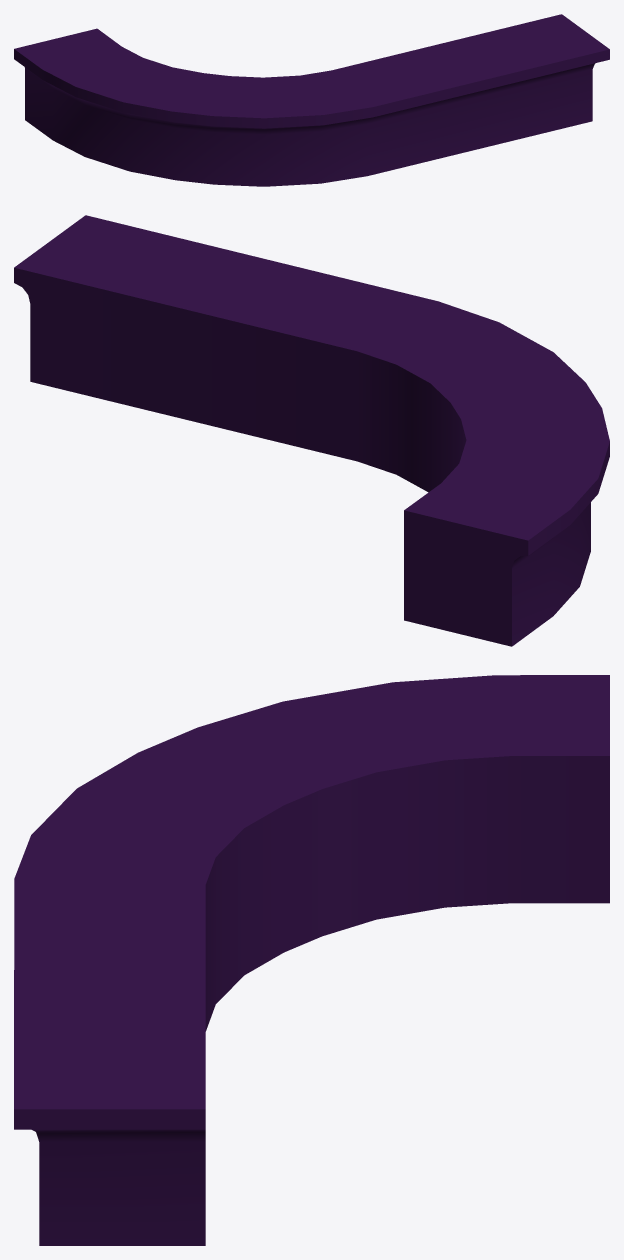
The model's file is Bar Table.fbx.
3 renders of one model, top to bottom at view 1: azimuth 30°, elevation 25°; view 2: azimuth 150°, elevation 25°; view 3: azimuth 270°, elevation 25°, orthographic. The views are drawn at different scales.
Parts seen in each view (by area): view 1: Plane; view 2: Plane; view 3: Plane.
Boxes of the visible parts, x1,y1,x2,y2 form: Plane: (14, 14, 609, 186); Plane: (14, 215, 609, 646); Plane: (14, 675, 609, 1245).
Bounding box in the file's own units: 4.9 × 0.7755 × 2.84.
